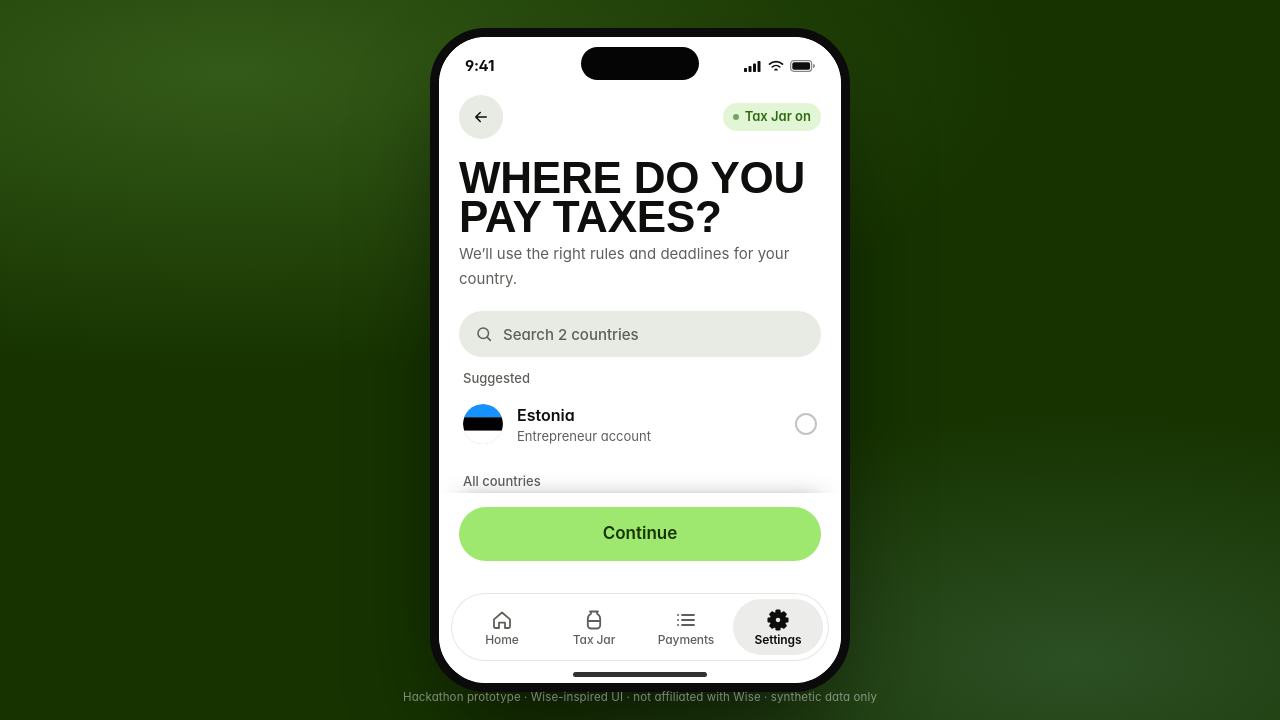
the tab bar asks too, and "Keep editing" stays on settings with the changes intact
The width and height of the screenshot is (1280, 720).
Earlier steps of the test are not shown.
Click the link "Home" at [502, 628], box [485,608,519,647]
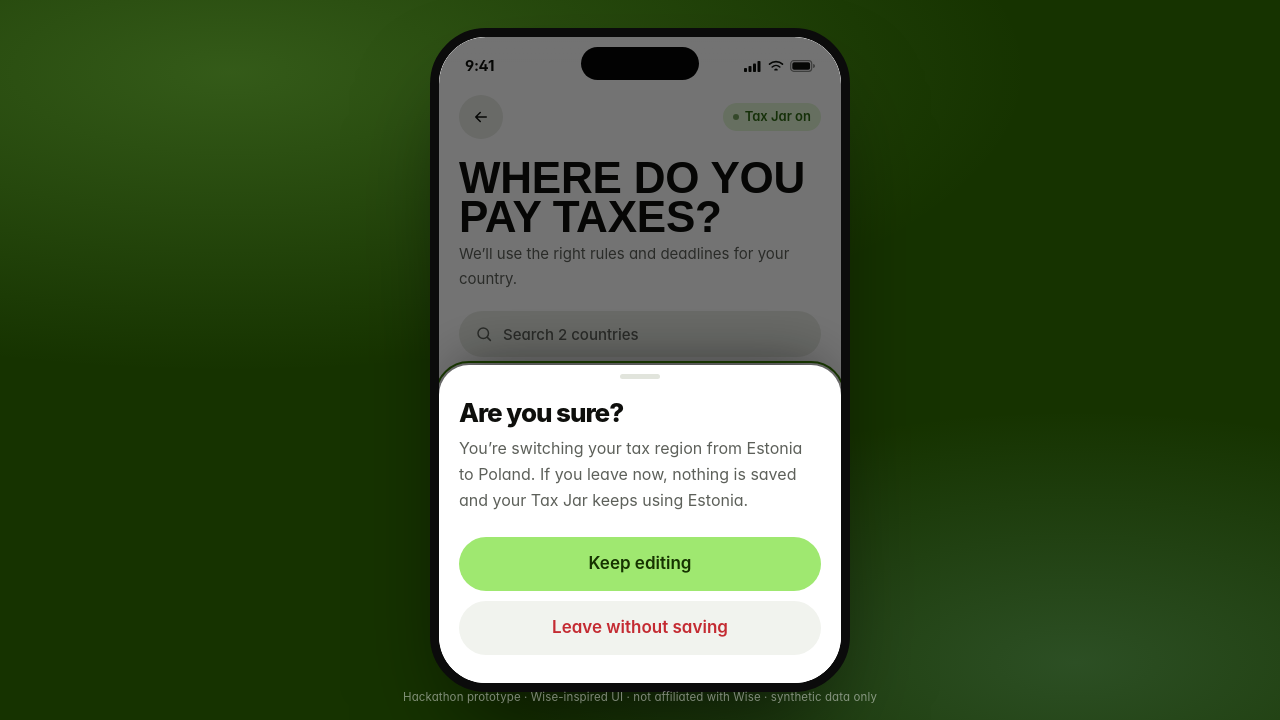
Click the button "Keep editing" at [640, 564], box [459,537,821,591]
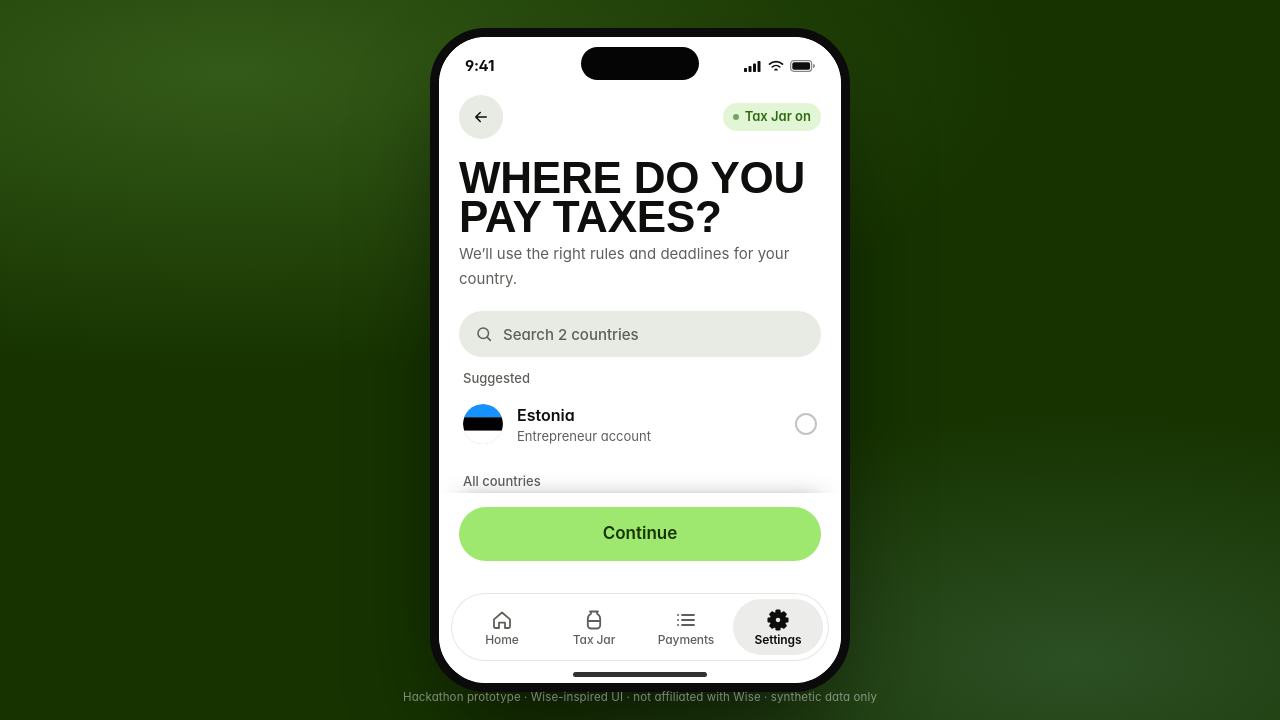
Expected: the heading "Are you sure?" is gone
